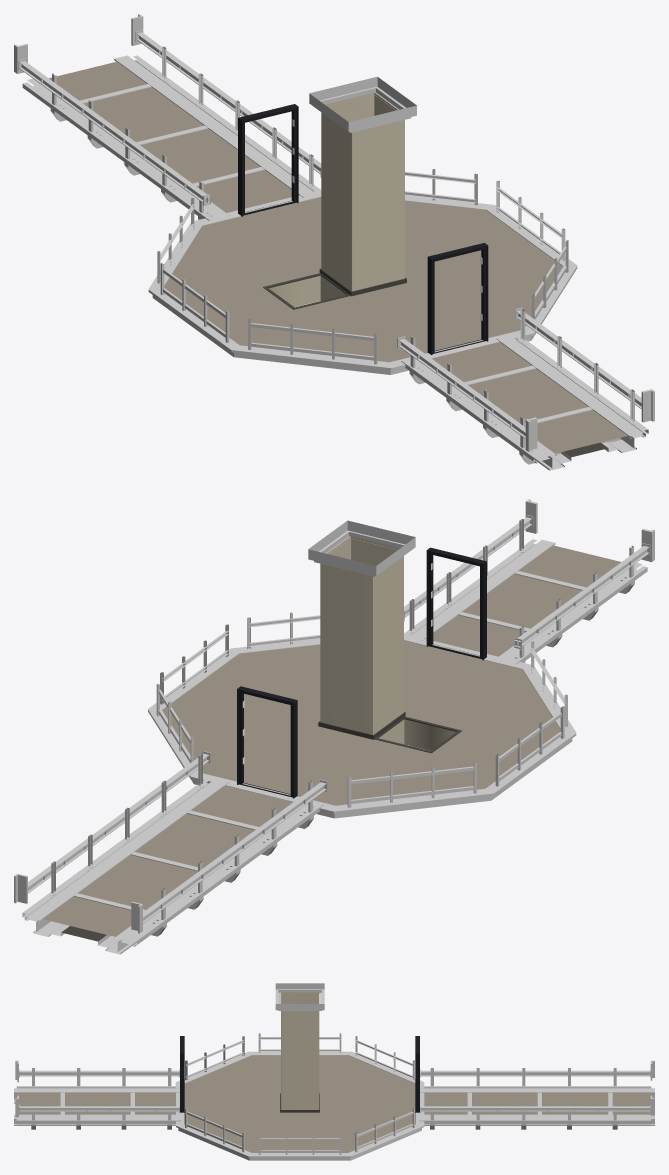
File: SM_H_Building_Tide_MedicalRoom_05E_ATLAS.fbx
3 views of the same model, one above another, from view 1: azimuth 30°, elevation 25°; view 2: azimuth 150°, elevation 25°; view 3: azimuth 270°, elevation 25° (orthographic). The views are drawn at different scales.
Visible parts, largest first — view 1: SM_H_Building_Tide_MedicalRoom_05E_ATLAS; view 2: SM_H_Building_Tide_MedicalRoom_05E_ATLAS; view 3: SM_H_Building_Tide_MedicalRoom_05E_ATLAS.
Boxes of the visible parts, box(x1,y1,x2,y2) form: SM_H_Building_Tide_MedicalRoom_05E_ATLAS: box(14, 14, 654, 470); SM_H_Building_Tide_MedicalRoom_05E_ATLAS: box(14, 499, 654, 954); SM_H_Building_Tide_MedicalRoom_05E_ATLAS: box(14, 983, 654, 1160).
Bounding box in the file's own units: 974 × 2515 × 551.
